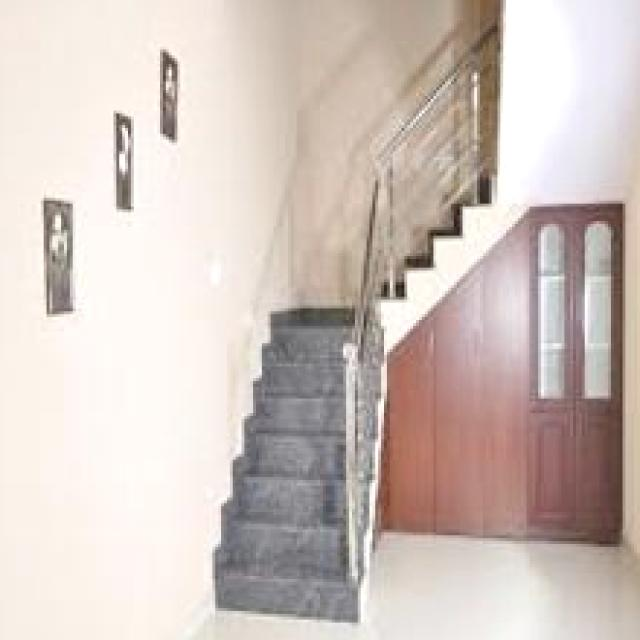upstair: (210, 400, 362, 598)
